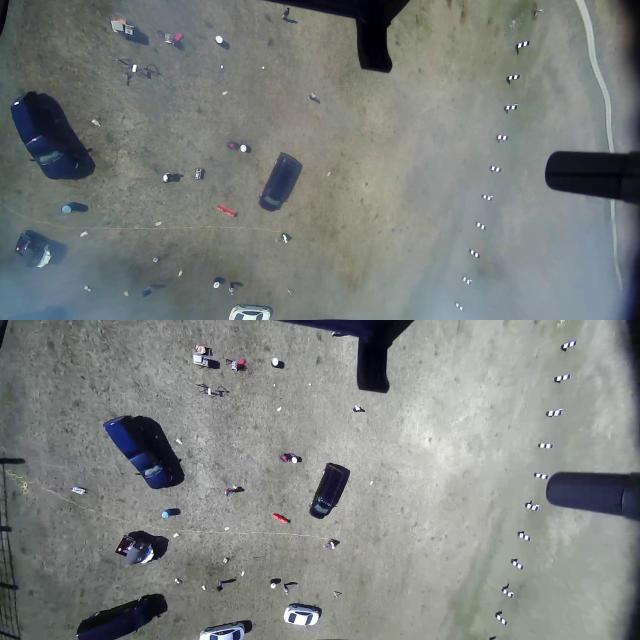bike: (524, 499, 538, 512), (503, 580, 513, 598), (495, 610, 506, 626), (504, 101, 517, 114), (539, 439, 553, 451), (511, 556, 522, 570), (481, 191, 492, 203), (508, 72, 519, 84), (496, 131, 507, 142), (489, 163, 500, 174), (519, 530, 529, 542), (469, 246, 478, 259)
car: (102, 412, 181, 490), (282, 595, 324, 632), (194, 620, 250, 640), (227, 299, 275, 321)
truck: (10, 221, 59, 273), (110, 523, 162, 569)
